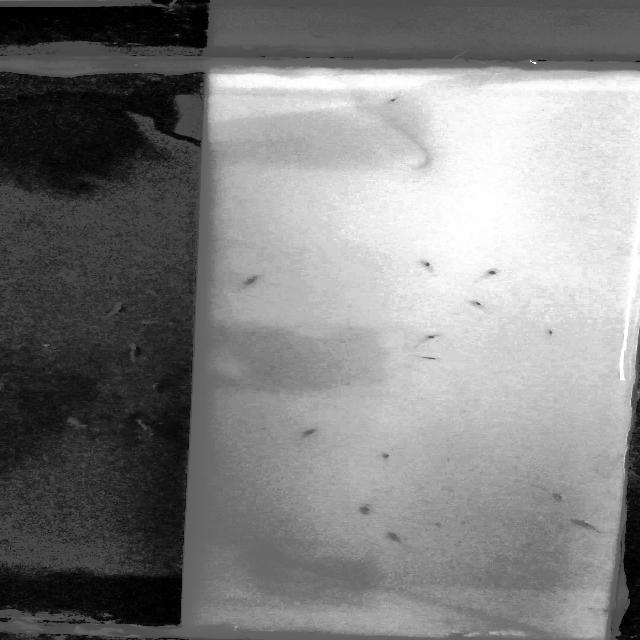shrimp: (569, 518, 610, 535), (379, 531, 414, 550), (403, 352, 452, 365), (475, 266, 507, 284), (296, 424, 328, 440), (244, 271, 268, 289), (384, 90, 409, 104), (463, 298, 491, 310), (419, 332, 442, 346), (355, 505, 384, 516), (414, 258, 437, 270), (381, 449, 399, 464), (550, 490, 568, 504), (542, 330, 566, 340), (447, 631, 469, 638), (304, 629, 320, 637)
